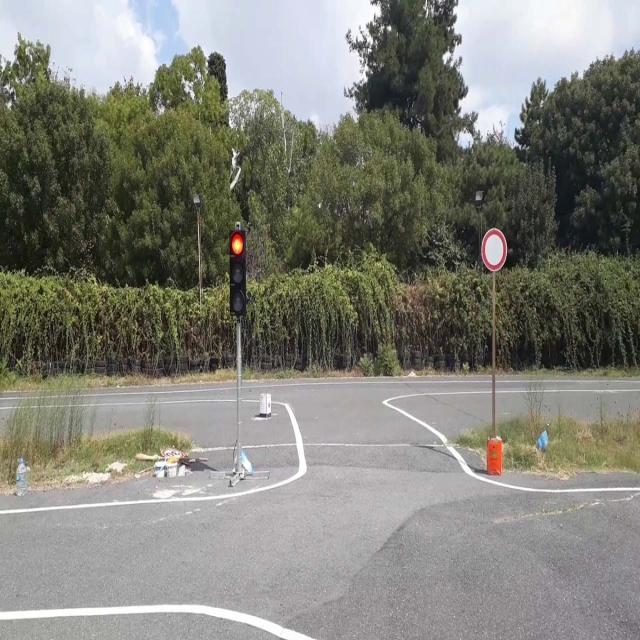kirmizi: (230, 230, 246, 314)
